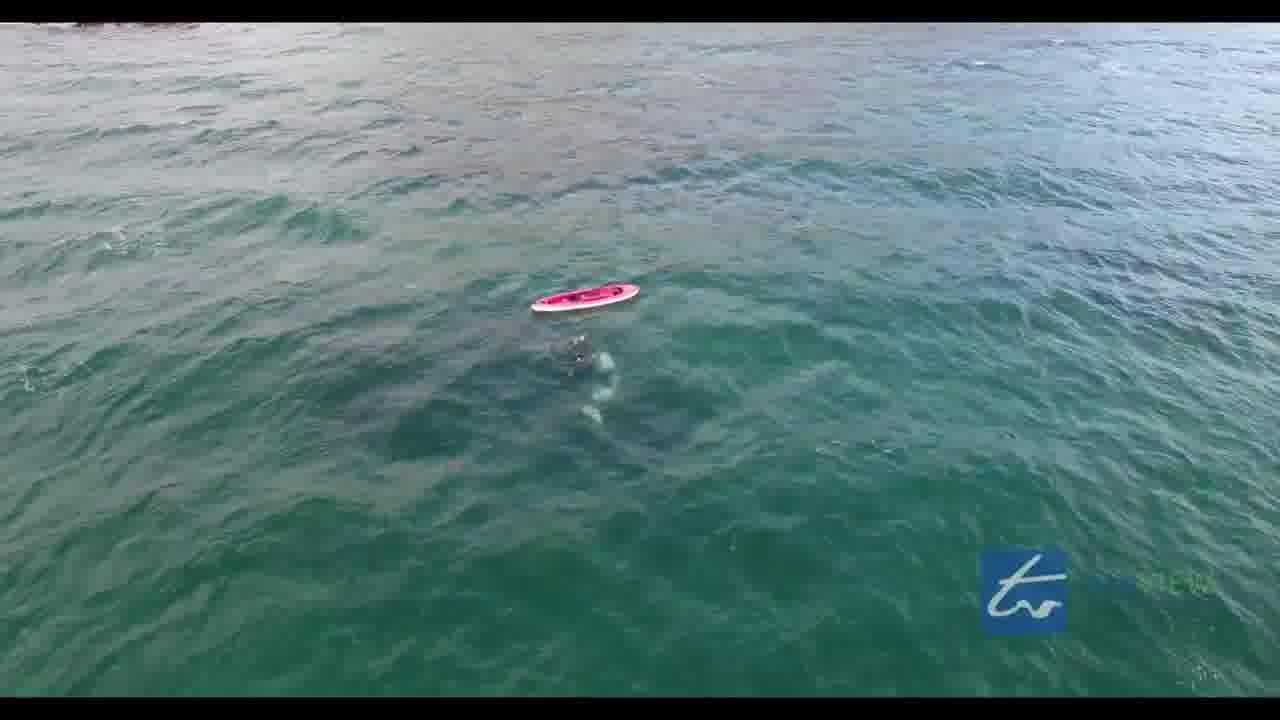swimmer: (551, 329, 602, 362)
